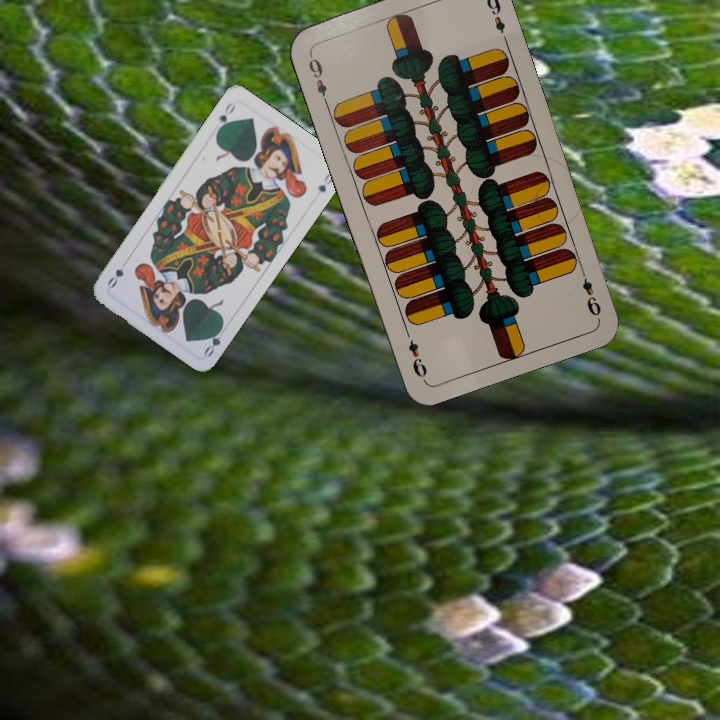E9: (576, 263, 604, 319), (304, 50, 331, 107)
GO: (200, 321, 226, 359), (213, 98, 238, 136)
